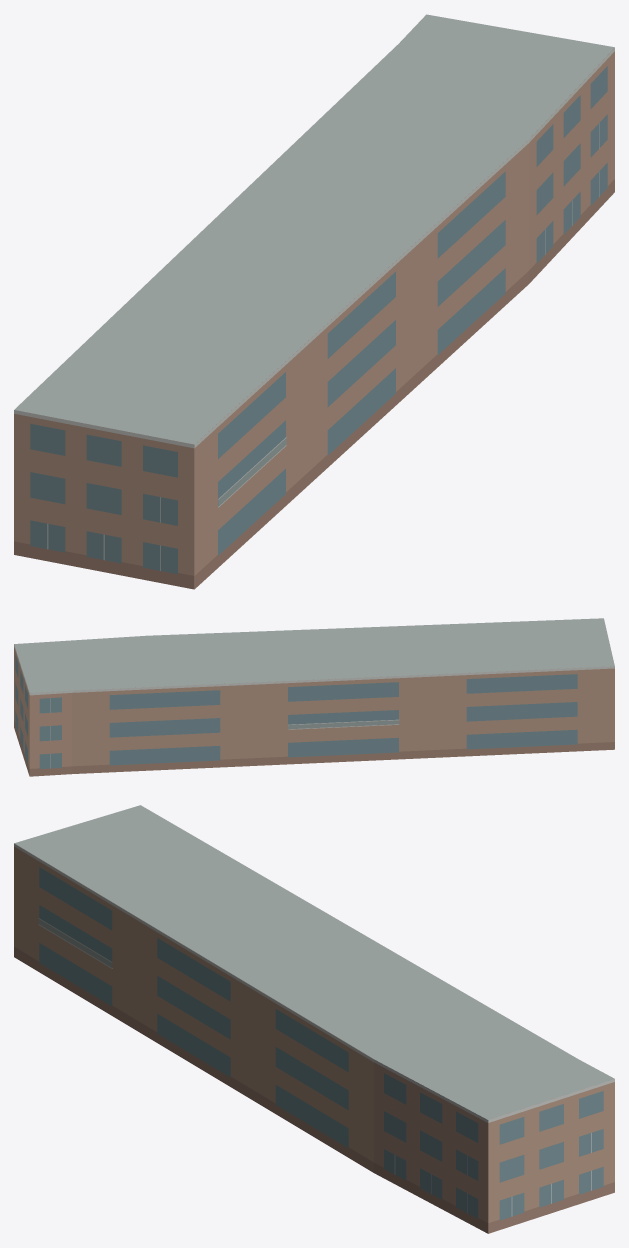
File: survey-upis-33004976.glb
The picture shows the model from 3 angles, top to bottom: view 1: azimuth 30°, elevation 25°; view 2: azimuth 150°, elevation 25°; view 3: azimuth 270°, elevation 25°; orthographic projection. The views are drawn at different scales.
Visible parts, largest first — view 1: survey-upis-33004976.tmp; view 2: survey-upis-33004976.tmp; view 3: survey-upis-33004976.tmp.
Part boxes in pixels (x1,y1,x2,y2): survey-upis-33004976.tmp: (14,14,614,589); survey-upis-33004976.tmp: (14,618,614,776); survey-upis-33004976.tmp: (14,805,614,1233).
Size of the model in its own units: 54.32 by 9.15 by 43.79.
